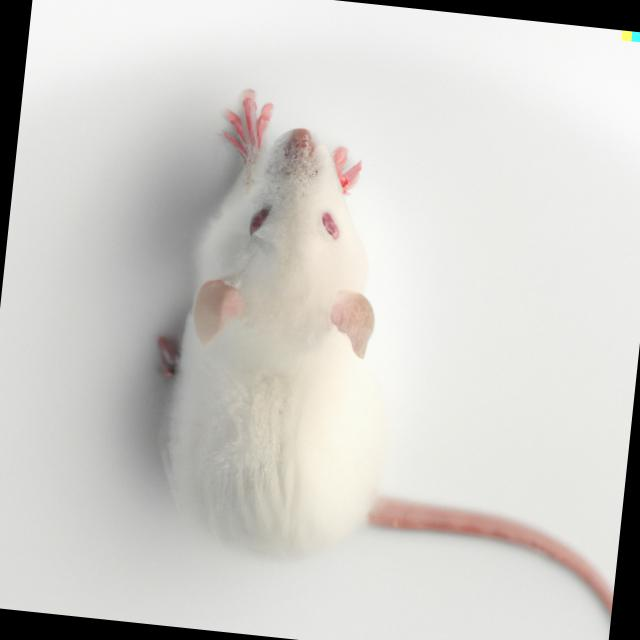rodents: (124, 108, 450, 590)
